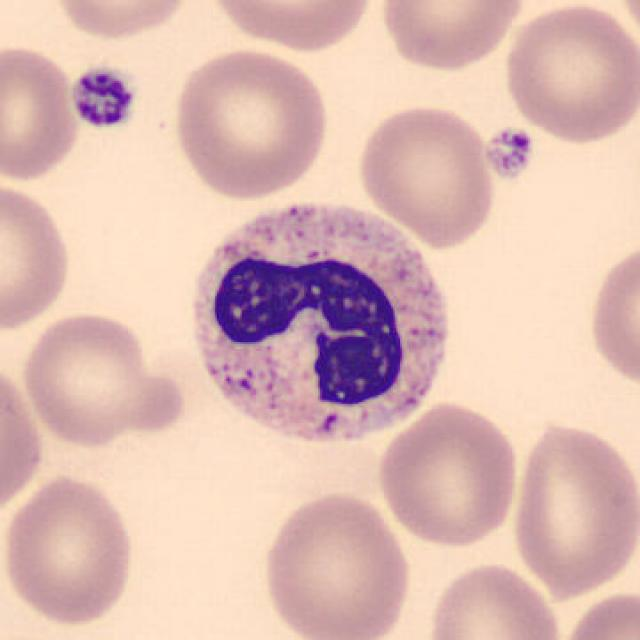Neutrophil: (180, 192, 462, 458)
Platelets: (68, 64, 140, 132), (482, 124, 535, 184)
RBC: (169, 44, 332, 203), (258, 486, 416, 640), (507, 416, 638, 600), (373, 399, 523, 550), (352, 99, 500, 250), (0, 470, 140, 629), (14, 308, 172, 448), (499, 0, 638, 146), (0, 41, 82, 185), (0, 178, 76, 333), (422, 559, 566, 640), (375, 0, 530, 74), (202, 0, 378, 55), (583, 234, 638, 395), (0, 356, 48, 520), (48, 0, 199, 42), (554, 587, 640, 640), (611, 0, 640, 49)
